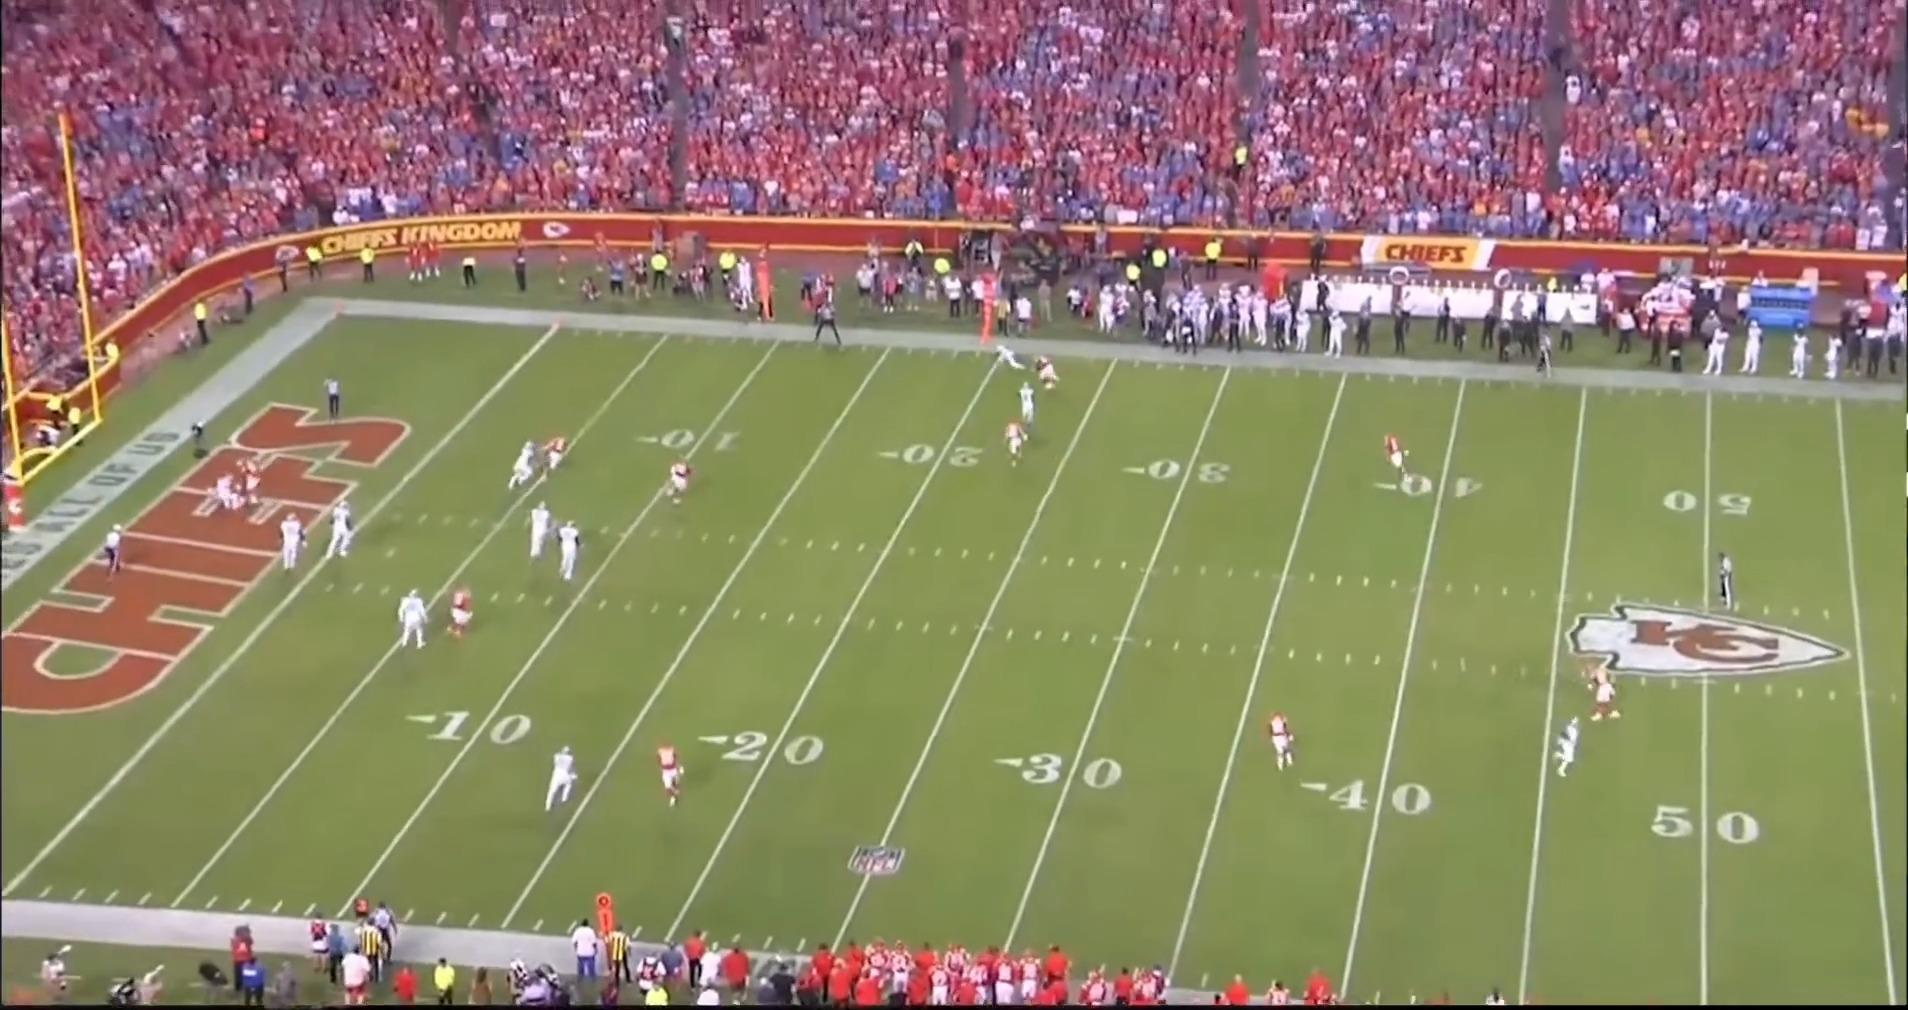defense: (1579, 662, 1618, 726), (654, 739, 686, 809), (1267, 711, 1301, 774), (659, 456, 697, 506), (535, 437, 569, 487), (448, 586, 478, 643), (1383, 433, 1416, 484), (237, 454, 261, 508), (1031, 355, 1061, 395), (999, 417, 1023, 466)
oline: (396, 588, 433, 651), (550, 520, 580, 586), (276, 510, 308, 572), (326, 500, 356, 564), (522, 504, 551, 566)
qb: (203, 471, 242, 524)
ref: (1714, 549, 1740, 612), (97, 520, 124, 577), (319, 371, 344, 427), (815, 300, 845, 346), (1533, 332, 1558, 379)
skill: (544, 744, 582, 813), (1553, 716, 1589, 781), (510, 436, 550, 492), (991, 338, 1025, 374), (1016, 381, 1037, 432)
